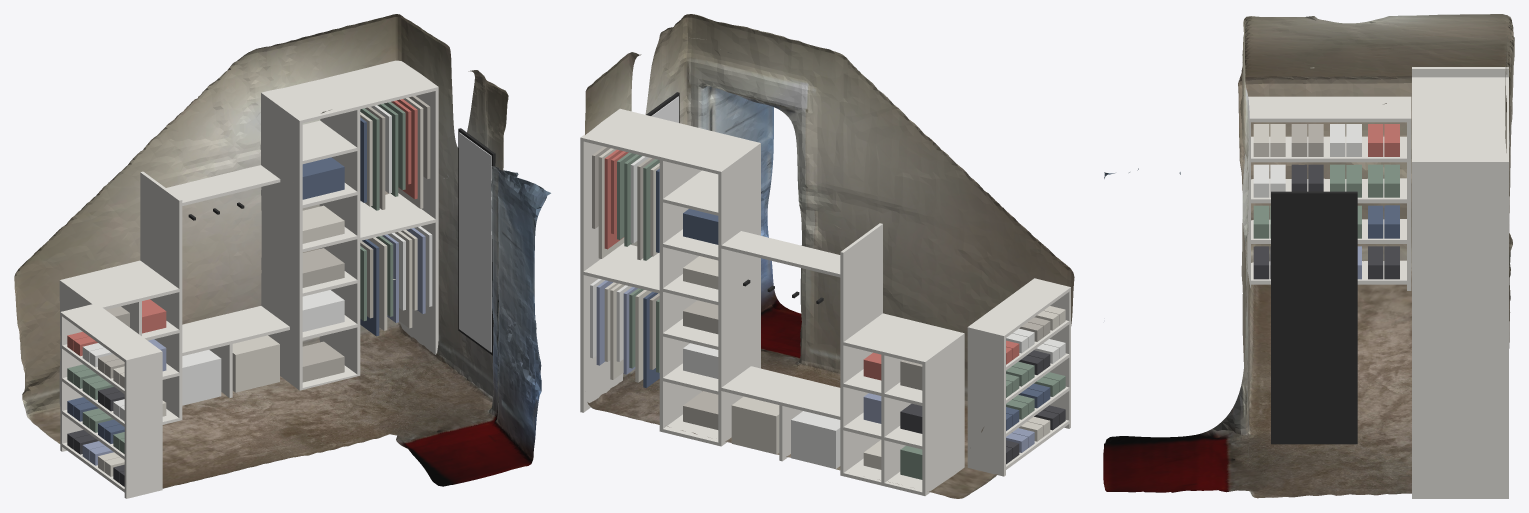
3 renders of one model, left to right at view 1: azimuth 30°, elevation 25°; view 2: azimuth 150°, elevation 25°; view 3: azimuth 270°, elevation 25°, orthographic. The views are drawn at different scales.
Visible parts, largest first — view 1: Scan_Closet, P2, Mirror_Glass, P1, Top_Cap, S_Side_Front, P3, P4, A_Top, Bench_Seat, S_Top, Basket.001 (+29 smaller); view 2: Scan_Closet, P2, P1, A_Side_L, P3, Top_Cap, S_Side_Back, P4, Bench_Seat, A_Top, S_Top, Bench_WallShelf (+41 smaller); view 3: Scan_Closet, P4, Mirror_Frame, Top_Cap, S_Top, S_Shelf_4, S_Shelf_3, P1, S_Side_Back, S_Shelf_2, S_Shelf_1, Shoe.008 (+20 smaller).
Part boxes in pixels (x1,y1,x2,y2): Scan_Closet: (14,14,550,488); P2: (260,92,302,390); Mirror_Glass: (459,132,491,352); P1: (140,171,182,420); Top_Cap: (261,60,437,123); S_Side_Front: (124,351,162,498); P3: (319,79,360,376); P4: (399,61,438,354); A_Top: (59,260,179,309); Bench_Seat: (182,306,289,355); S_Top: (60,303,162,363); Basket.001: (232,335,279,392); Scan_Closet: (585,14,1074,498); P2: (718,142,760,446); P1: (840,223,882,475); A_Side_L: (922,332,964,495); P3: (659,128,702,432); Top_Cap: (580,109,760,174); S_Side_Back: (967,326,1005,476); P4: (580,108,622,412); Bench_Seat: (721,366,840,419); A_Top: (843,313,964,364); S_Top: (967,278,1070,338); Bench_WallShelf: (721,231,840,277); Scan_Closet: (1103,14,1514,498); P4: (1412,160,1508,498); Mirror_Frame: (1271,191,1357,444); Top_Cap: (1412,77,1508,165); S_Top: (1248,96,1411,122); S_Shelf_4: (1251,136,1406,162); S_Shelf_3: (1251,178,1406,203); P1: (1412,67,1508,77); S_Side_Back: (1407,96,1411,290); S_Shelf_2: (1251,219,1406,243); S_Shelf_1: (1251,260,1406,284); Shoe.008: (1253,205,1269,238).
Size of the model in its own units: 3.24 by 2.63 by 2.38.
Materials: 13 (1 with a texture image).
